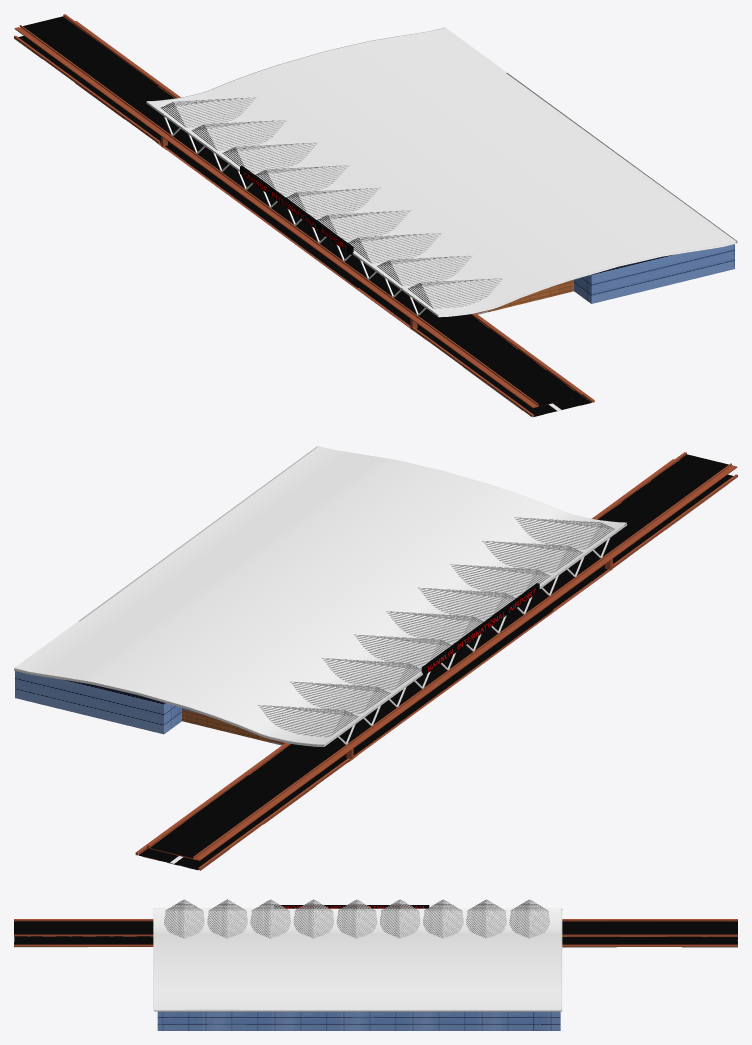
Rendered from Kannur_airport.fbx.
3 views of the same model, one above another, from view 1: azimuth 30°, elevation 25°; view 2: azimuth 150°, elevation 25°; view 3: azimuth 270°, elevation 25° (orthographic). The views are drawn at different scales.
Visible parts, largest first — view 1: TOP__ROOF, airport_building, board; view 2: TOP__ROOF, airport_building, board; view 3: TOP__ROOF, airport_building, board.
Boxes of the visible parts, x1,y1,x2,y2 form: TOP__ROOF: (14,14,737,417); airport_building: (476,244,734,314); board: (240,166,353,254); TOP__ROOF: (14,446,737,870); airport_building: (15,671,284,745); board: (421,583,539,675); TOP__ROOF: (14,899,737,1011); airport_building: (157,1011,560,1030); board: (274,905,429,908).
Bounding box in the file's own units: 5096 × 709 × 14970.
Materials: 3 (3 with a texture image).
